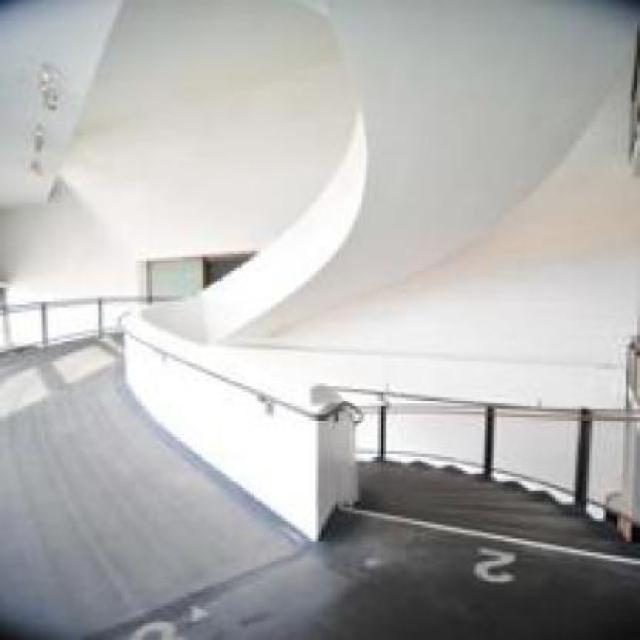stair: (335, 358, 637, 575)
